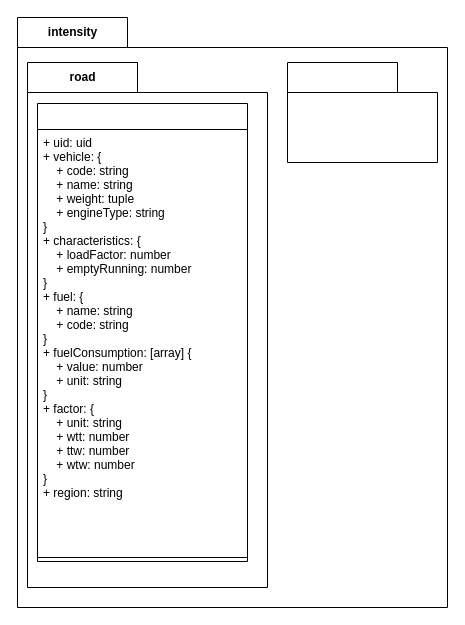
Image size: 465x625. Some labels were removed from this diagram. The shapes that lost their labels are listed below. From the top down, each one's box as (x1, y1, x2, y2) in pixels, then its label:
(286, 62, 438, 162): Air, ocean etc
(36, 102, 248, 562): Road_Entry#
